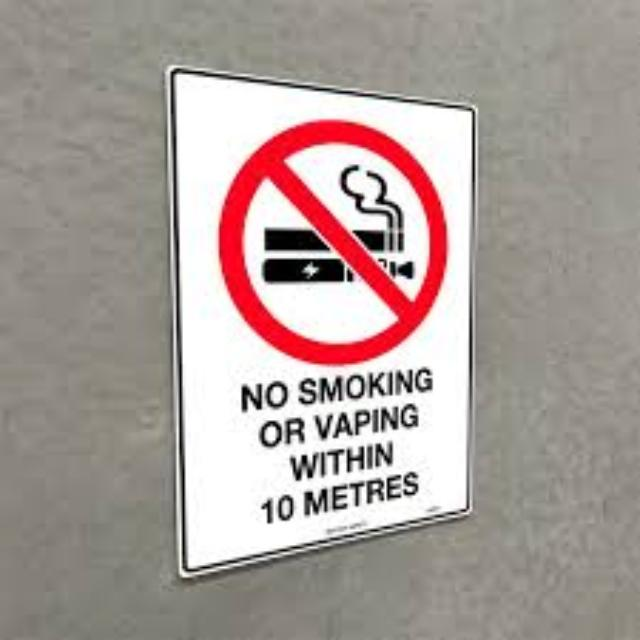cam hut thuoc: (168, 68, 475, 572)
